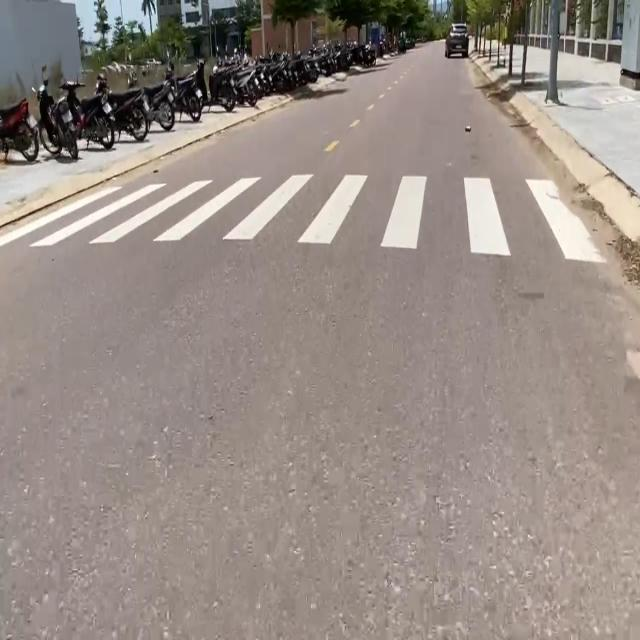walk-crossing: (1, 175, 610, 262)
